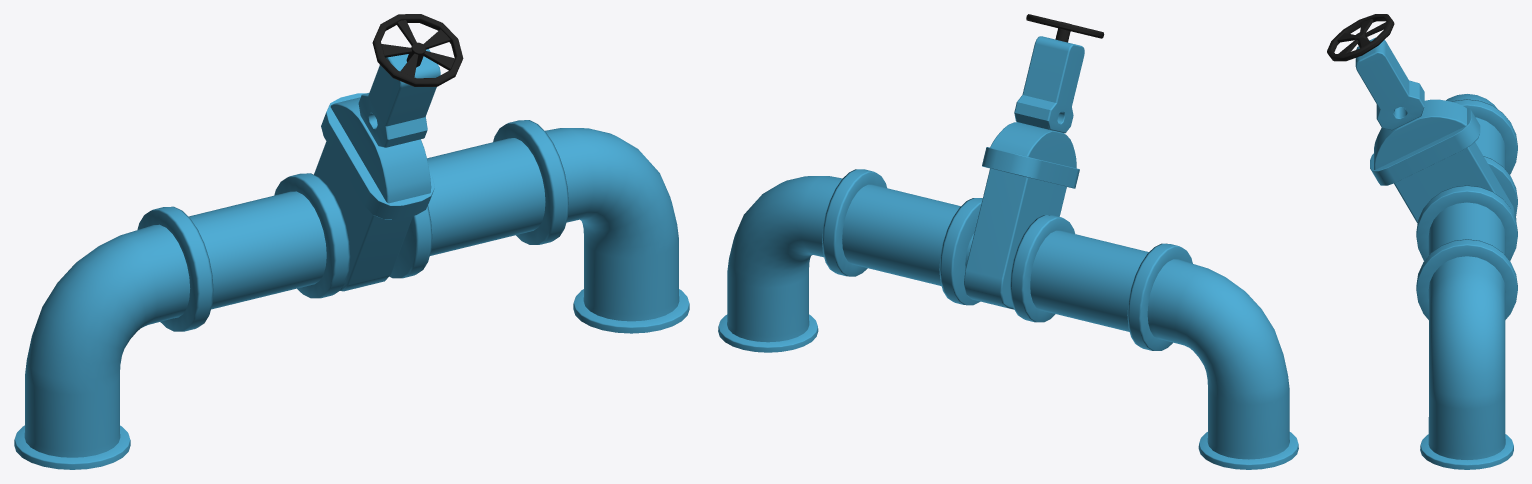
Rendered from bluePipe.fbx.
3 views of the same model, side by side, from view 1: azimuth 30°, elevation 25°; view 2: azimuth 150°, elevation 25°; view 3: azimuth 270°, elevation 25° (orthographic). The views are drawn at different scales.
Visible parts, largest first — view 1: bluepipes_lo; view 2: bluepipes_lo; view 3: bluepipes_lo.
Boxes of the visible parts, x1,y1,x2,y2 form: bluepipes_lo: (14, 14, 689, 469); bluepipes_lo: (718, 14, 1298, 469); bluepipes_lo: (1327, 14, 1517, 469).
Size of the model in its own units: 3.29 by 1.89 by 1.02.
